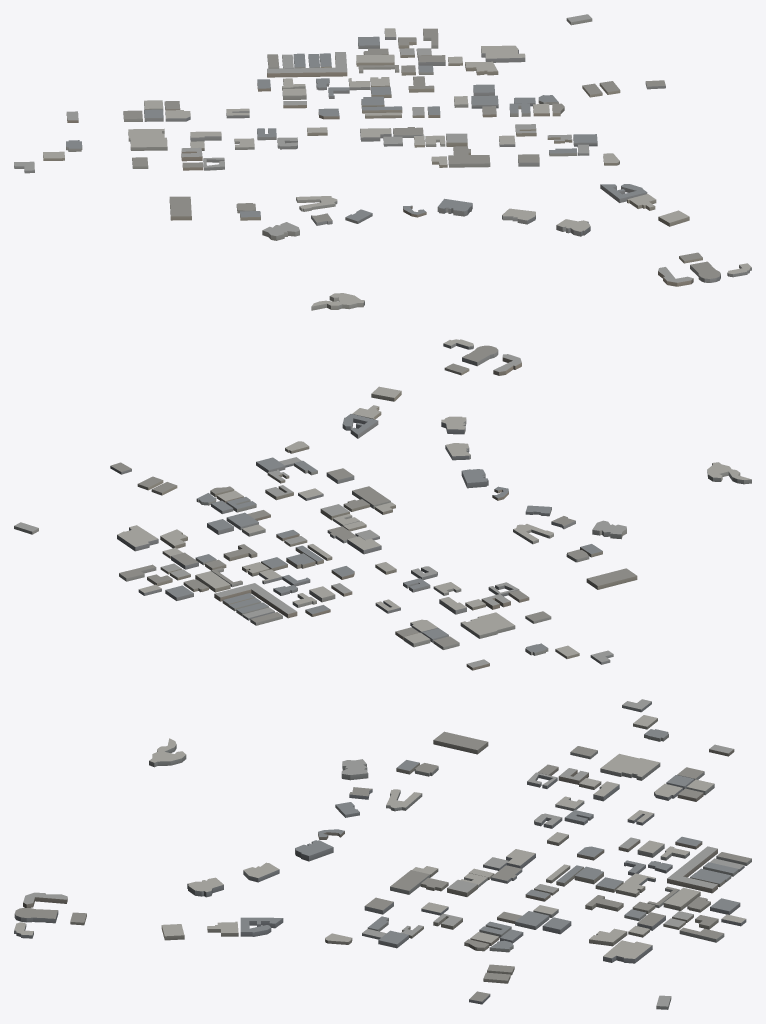
The model's file is bld_17_10.fbx.
3 renders of one model, top to bottom at view 1: azimuth 30°, elevation 25°; view 2: azimuth 150°, elevation 25°; view 3: azimuth 270°, elevation 25°, orthographic. The views are drawn at different scales.
Visible parts, largest first — view 1: bld_17_10_LOD0; view 2: bld_17_10_LOD0; view 3: bld_17_10_LOD0.
Part boxes in pixels (<box>): bld_17_10_LOD0: <box>14,14,751,310</box>; bld_17_10_LOD0: <box>14,339,751,670</box>; bld_17_10_LOD0: <box>14,699,751,1009</box>.
Bounding box in the file's own units: 1945 × 16.37 × 1970.
